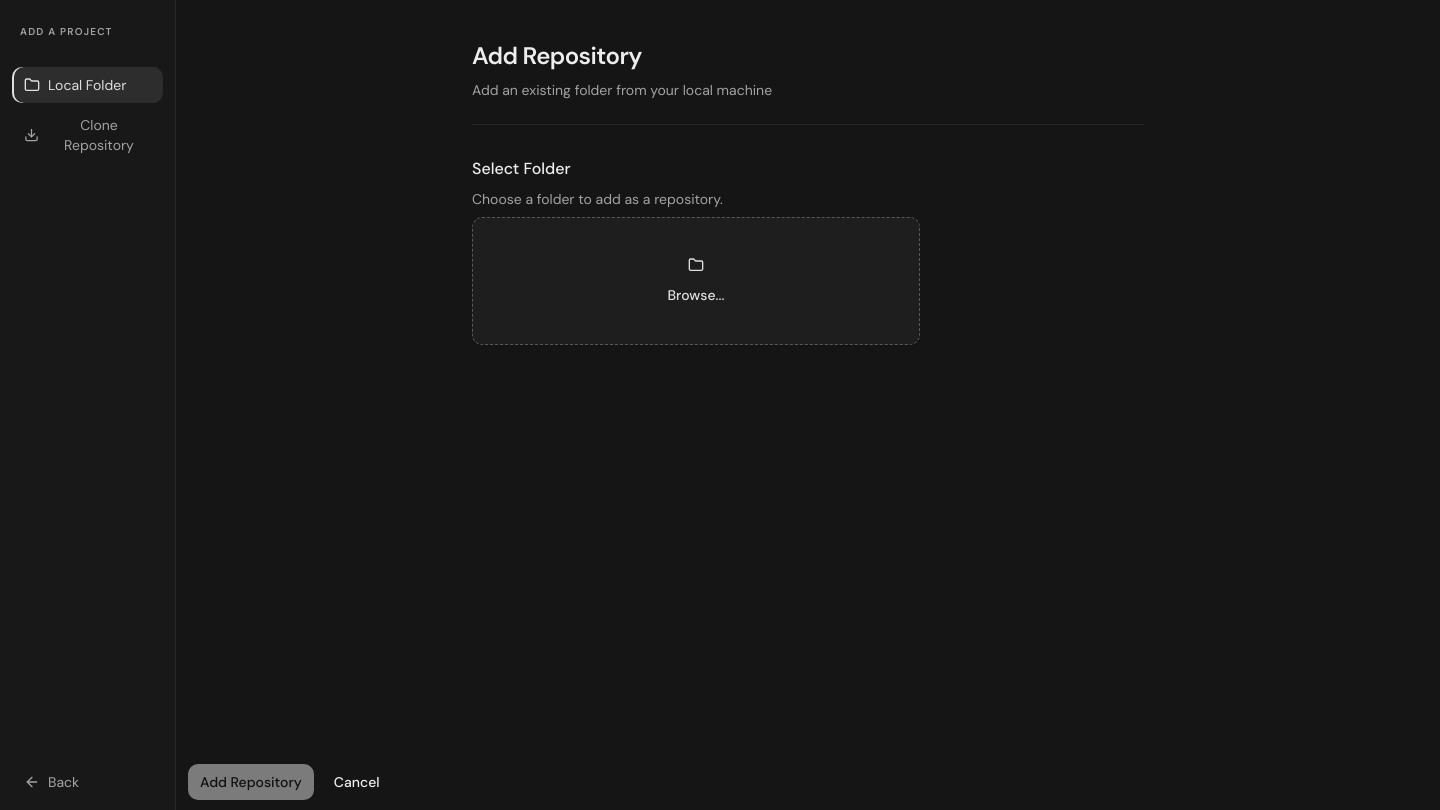
Test case: AddRepositoryScreen › basic rendering › switches to Clone tab when clicked
Click the button "Clone Repository" at {"x": 88, "y": 135}, box left=12, top=107, right=163, bottom=163
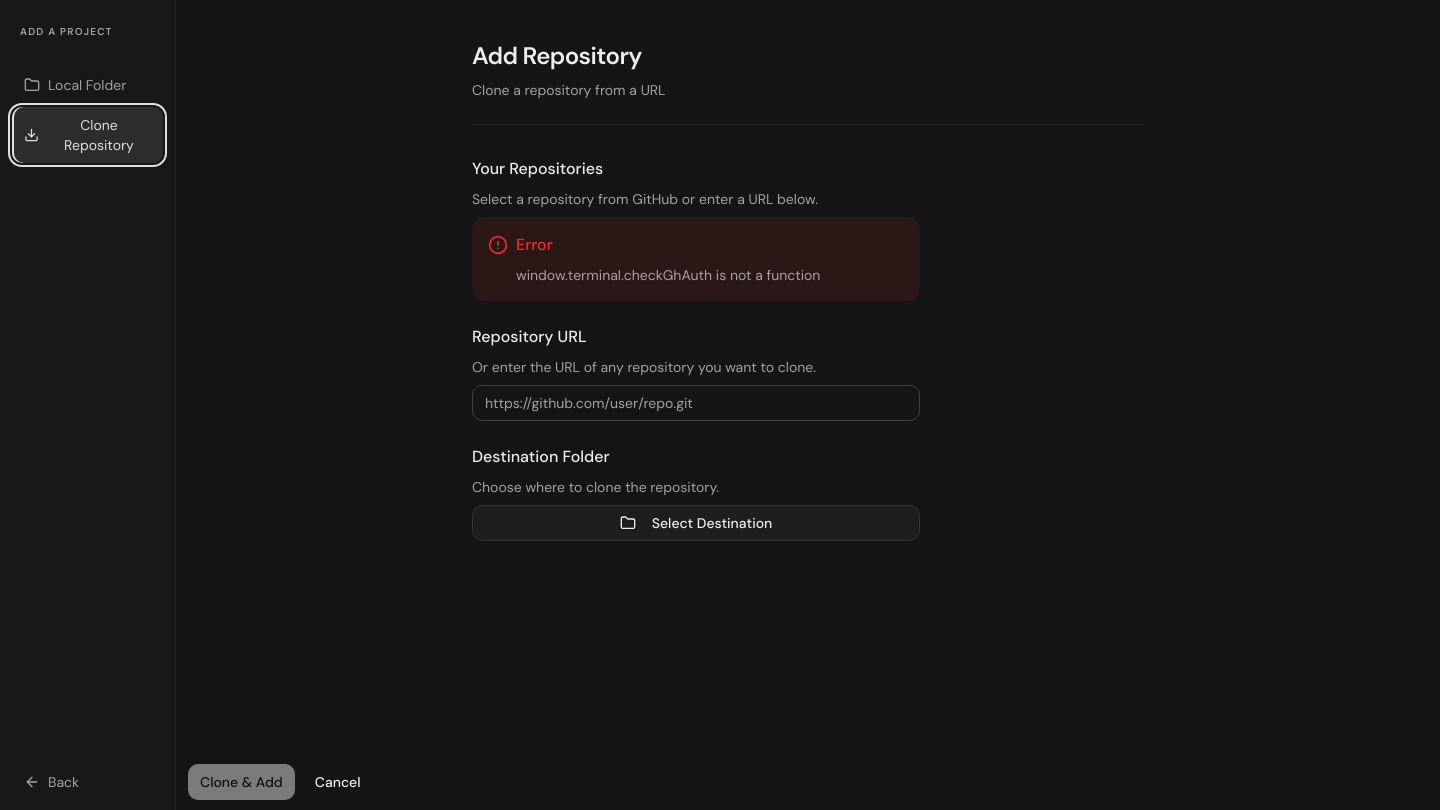
Check: the text "Repository URL" is shown, box left=472, top=326, right=586, bottom=347
Check: the field with placeholder "https://github.com/user/repo.git" is shown, box left=472, top=385, right=920, bottom=421
